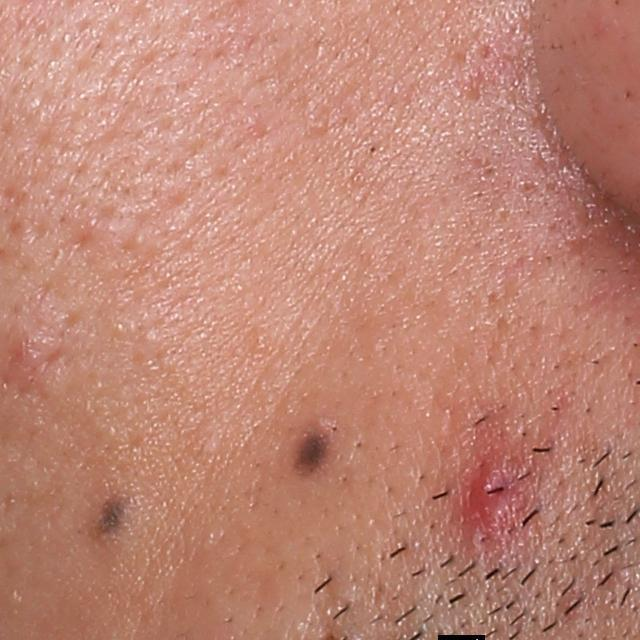comedo: (0, 326, 52, 376), (126, 222, 159, 251)
nevus: (277, 411, 343, 488), (83, 476, 142, 550)
papule: (461, 437, 530, 536)
